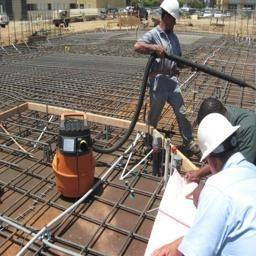hat: (191, 110, 239, 172), (152, 1, 192, 36)
no hat: (196, 90, 230, 133)
no vest: (206, 160, 256, 256), (134, 21, 188, 99), (229, 102, 256, 164)
